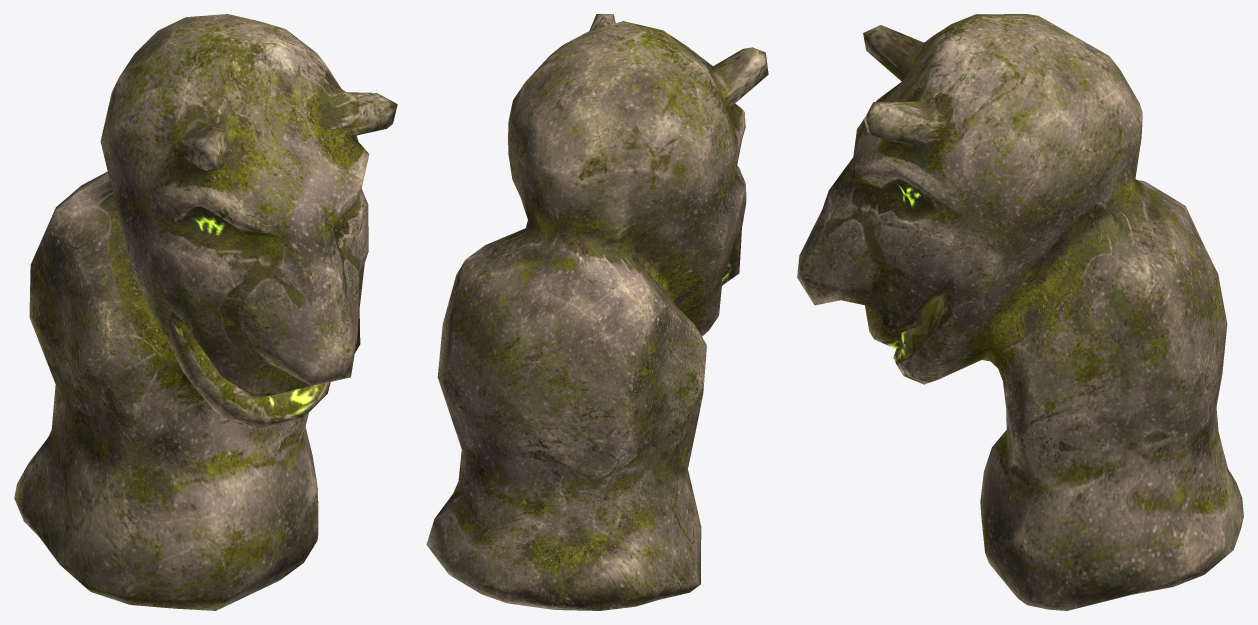
Rendered from stone_head_with_eye.glb.
The picture shows the model from 3 angles, left to right: view 1: azimuth 30°, elevation 25°; view 2: azimuth 150°, elevation 25°; view 3: azimuth 270°, elevation 25°; orthographic projection. The views are drawn at different scales.
Parts seen in each view (by area): view 1: PolySphere2_2; view 2: PolySphere2_2; view 3: PolySphere2_2.
Boxes of the visible parts, x1,y1,x2,y2 form: PolySphere2_2: (14,14,397,610); PolySphere2_2: (426,14,768,610); PolySphere2_2: (797,14,1243,610).
Bounding box in the file's own units: 0.8857 × 2 × 1.45.
Materials: 1 (1 with a texture image).
